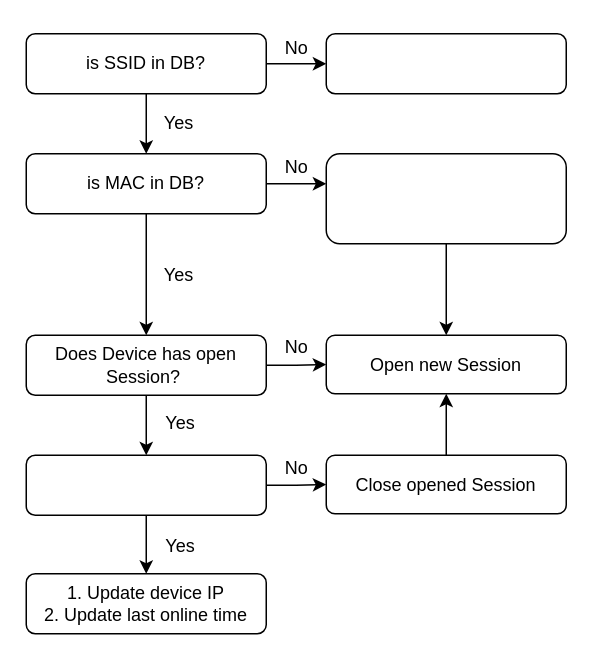
Image size: 593x660. Some labels were removed from this diagram. The centre of each missing label's shape, as x and y in pixels:
1. Create new Device 2. Notify admins about new Device: point (445, 198)
Is open Session' SSID equal to Request' SSID?: point (145, 484)
Return "Unknown SSID": point (445, 63)
